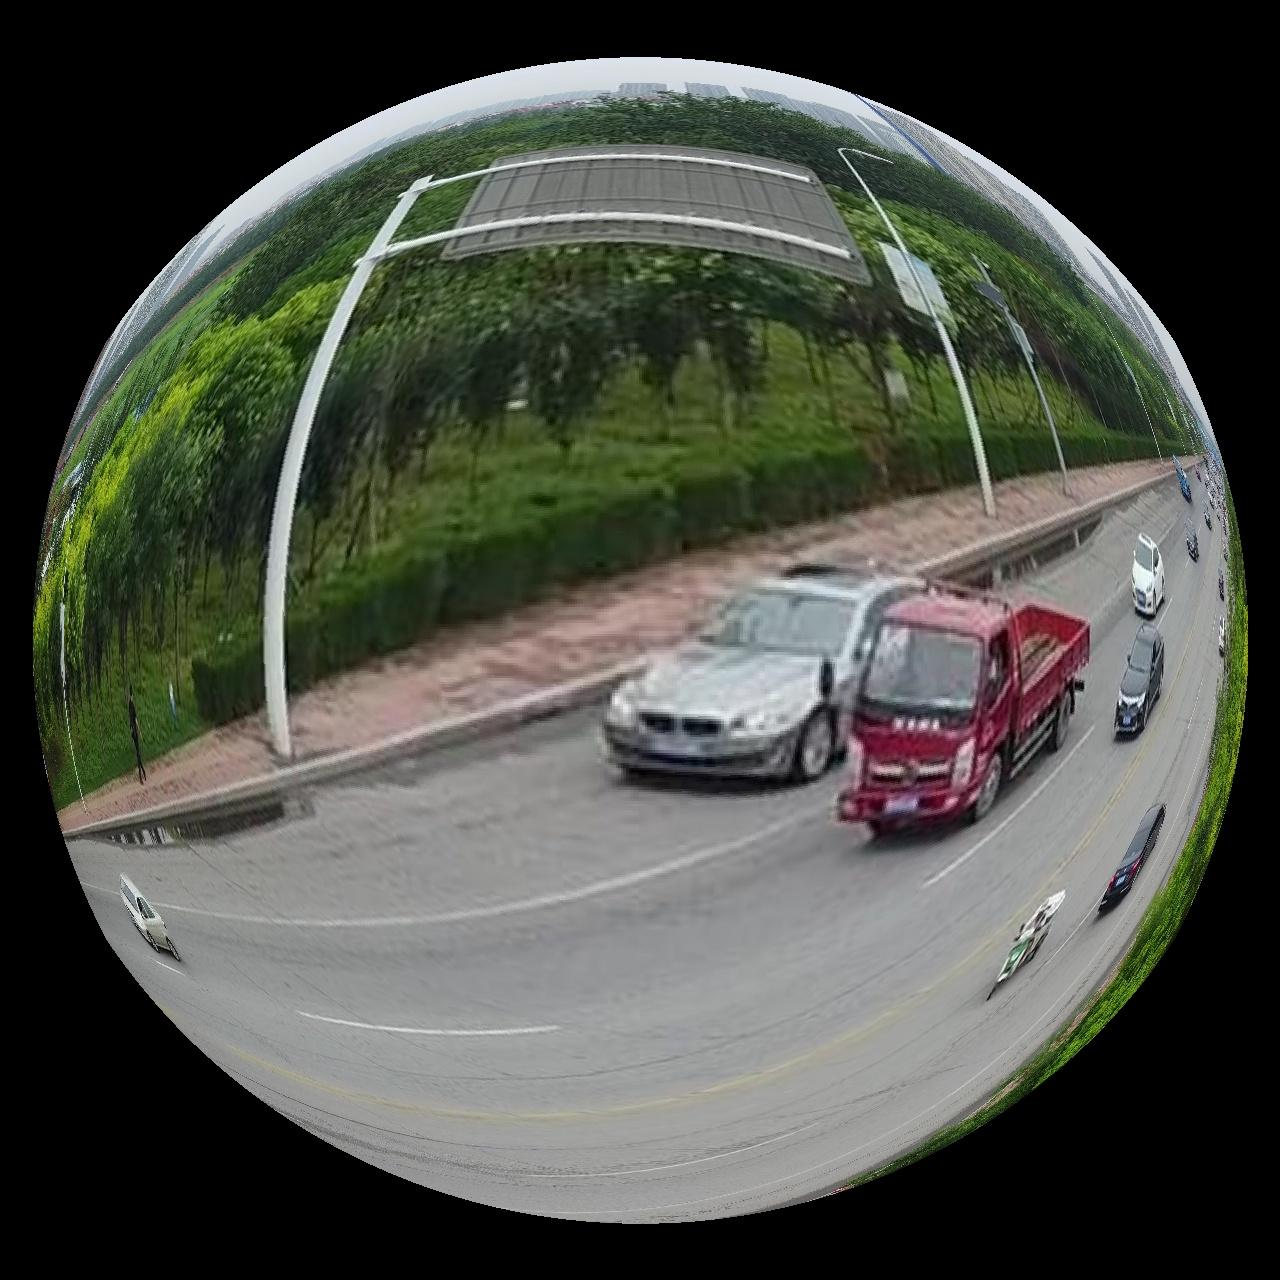cars: (602, 565, 926, 782), (838, 587, 1092, 837), (989, 892, 1067, 1001), (1099, 805, 1167, 915), (1117, 622, 1166, 741), (120, 874, 181, 962), (1135, 533, 1167, 618)
trees: (35, 91, 1206, 803), (849, 669, 1246, 1191)
